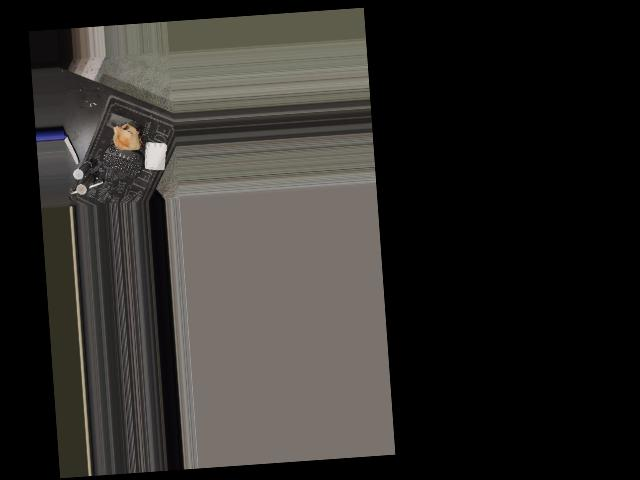onion: (111, 123, 142, 154)
